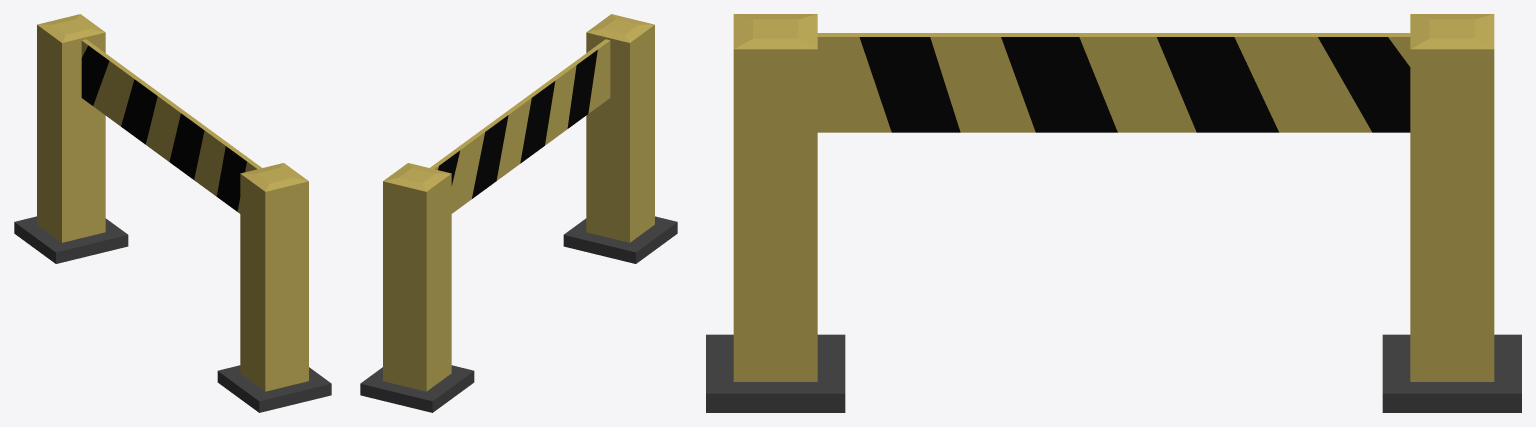
Rendered from barrier_v2.fbx.
3 views of the same model, side by side, from view 1: azimuth 30°, elevation 25°; view 2: azimuth 150°, elevation 25°; view 3: azimuth 270°, elevation 25° (orthographic). The views are drawn at different scales.
Visible parts, largest first — view 1: Cube; view 2: Cube; view 3: Cube.
Boxes of the visible parts, x1,y1,x2,y2 form: Cube: (14,14,331,412); Cube: (360,14,677,412); Cube: (706,14,1521,412).
Bounding box in the file's own units: 104 × 291 × 608.
